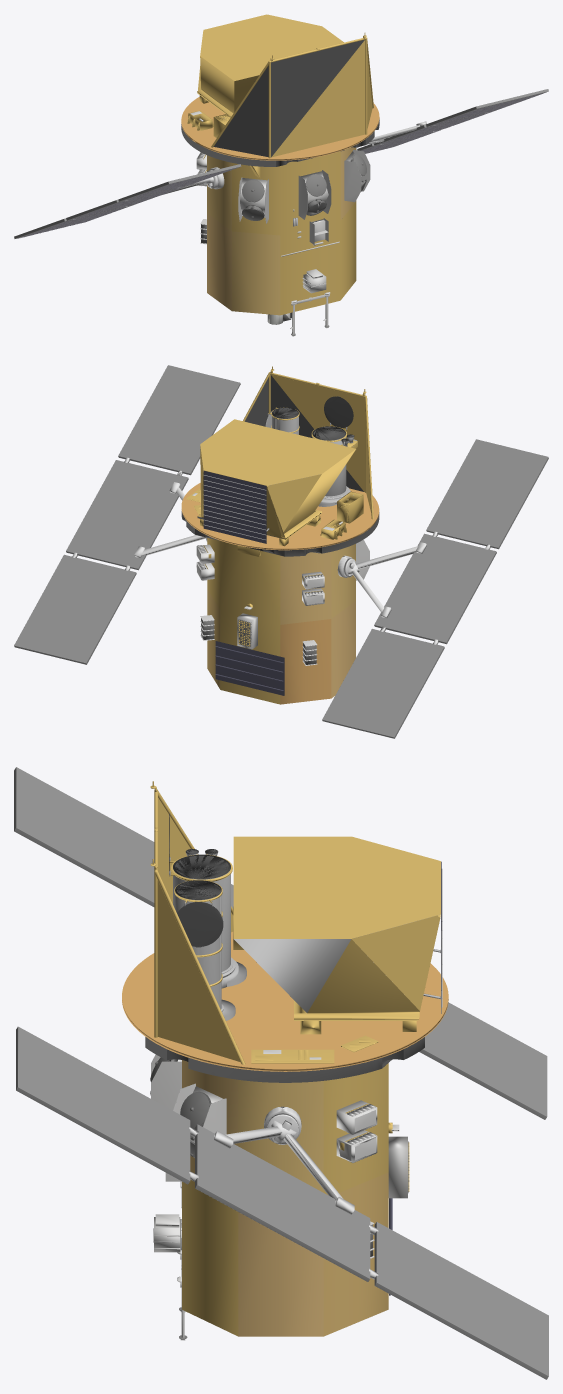
Rendered from swift.glb.
3 renders of one model, top to bottom at view 1: azimuth 30°, elevation 25°; view 2: azimuth 150°, elevation 25°; view 3: azimuth 270°, elevation 25°, orthographic. The views are drawn at different scales.
Visible parts, largest first — view 1: Fake; view 2: Fake; view 3: Fake.
Part boxes in pixels (bbox=[...]): Fake: bbox=[14, 14, 548, 336]; Fake: bbox=[14, 365, 548, 738]; Fake: bbox=[14, 767, 548, 1379].
Size of the model in its own units: 39.92 by 29.44 by 28.26.
